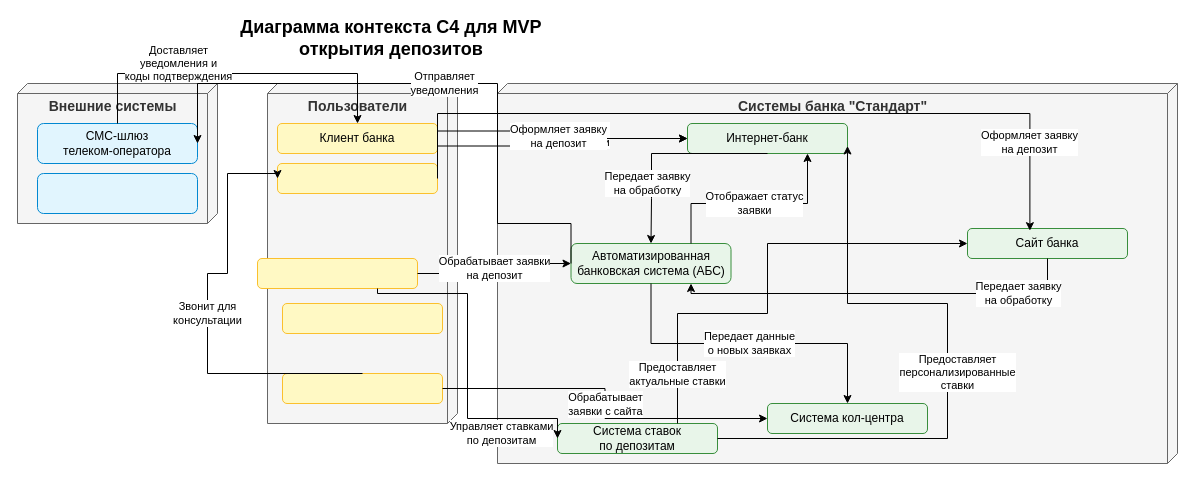
Some shapes in this 1195 by 481 pixel diagram are drawn without their labels. The shapes that lost their labels are listed below. From the top down, each one's centre as x and y in pixels, then its label:
the point at 117,193: Система партнёрского кол-центра
the point at 357,178: Потенциальный клиент
the point at 337,273: Сотрудник бэк-офиса
the point at 362,318: Сотрудник фронт-офиса
the point at 362,388: Оператор кол-центра
